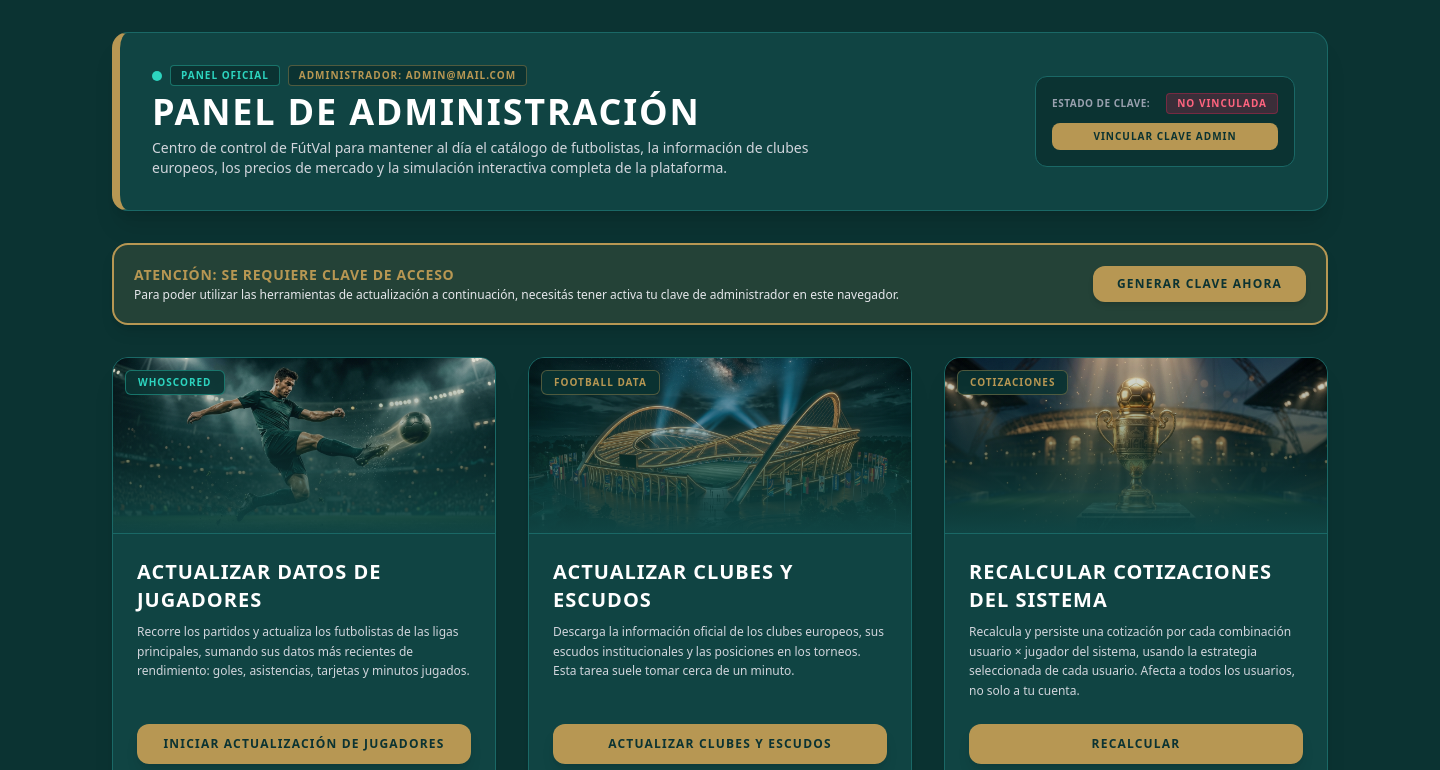
Test: AdminPage › permite generar y vincular una clave de administrador si no tiene una en el navegador
Click the button "Generar Clave Ahora".
click(1200, 284)  # box [1093,266,1306,302]
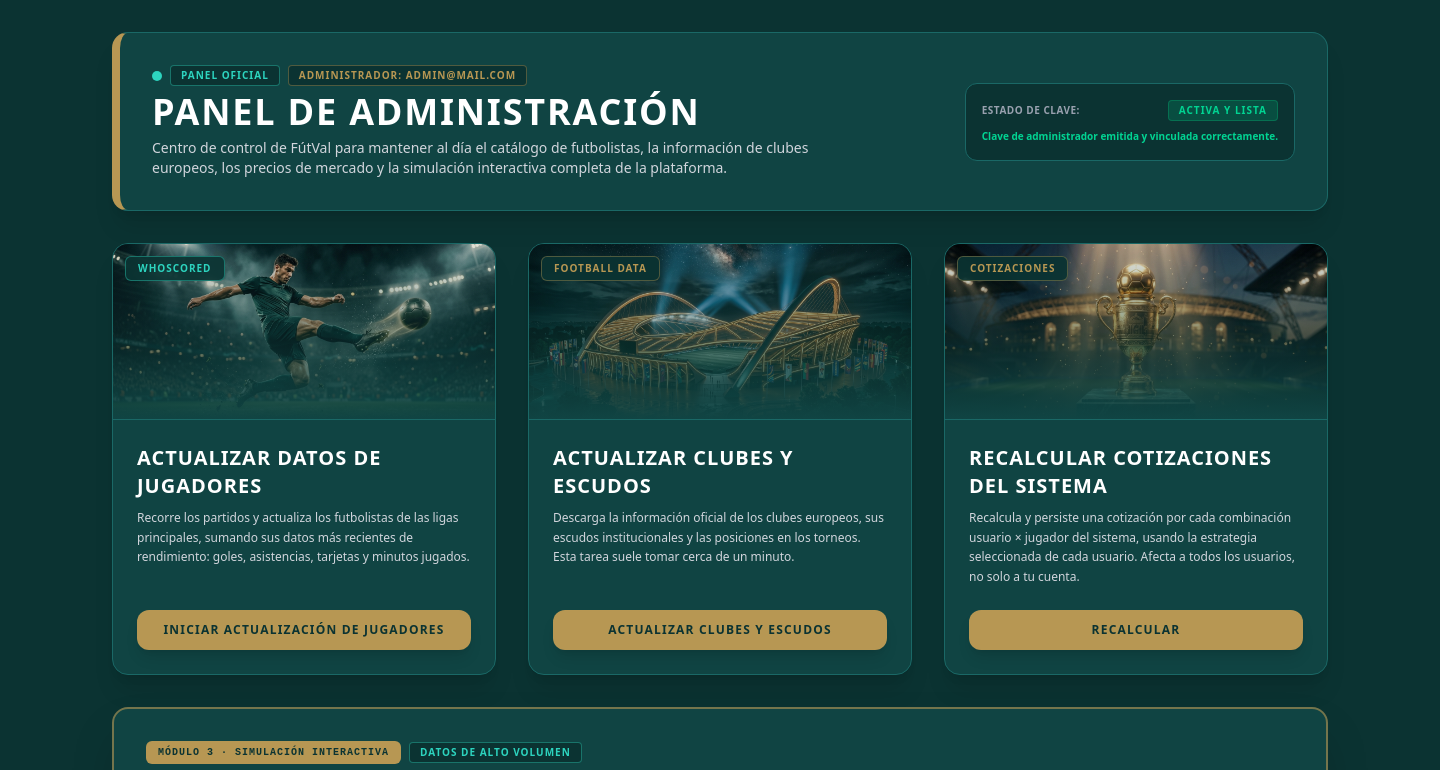
Result: the text "Clave de administrador emitida y vinculada correctamente." is shown at [982,128,1278,142]
